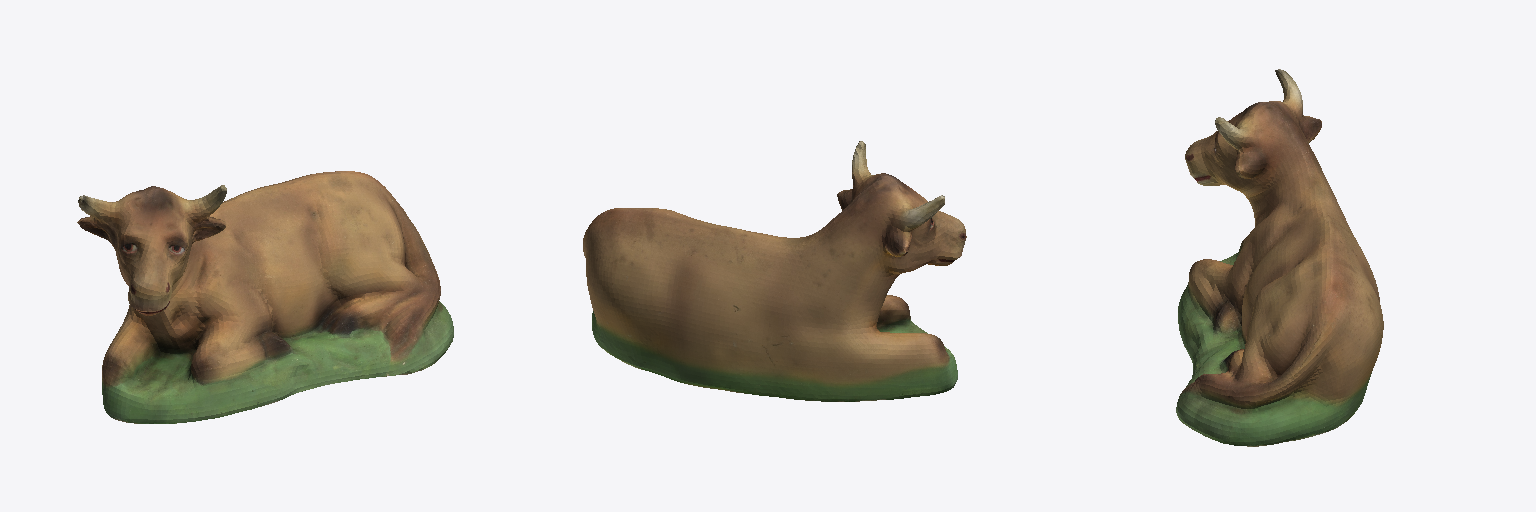
3 renders of one model, left to right at view 1: azimuth 30°, elevation 25°; view 2: azimuth 150°, elevation 25°; view 3: azimuth 270°, elevation 25°, orthographic.
Visible parts, largest first — view 1: Vaca_LP2; view 2: Vaca_LP2; view 3: Vaca_LP2.
Part boxes in pixels (left/top/right/bottom): Vaca_LP2: left=77, top=171, right=453, bottom=423; Vaca_LP2: left=583, top=141, right=966, bottom=401; Vaca_LP2: left=1176, top=69, right=1383, bottom=446.
Bounding box in the file's own units: 0.174 × 0.1015 × 0.0883.
Materials: 1 (1 with a texture image).